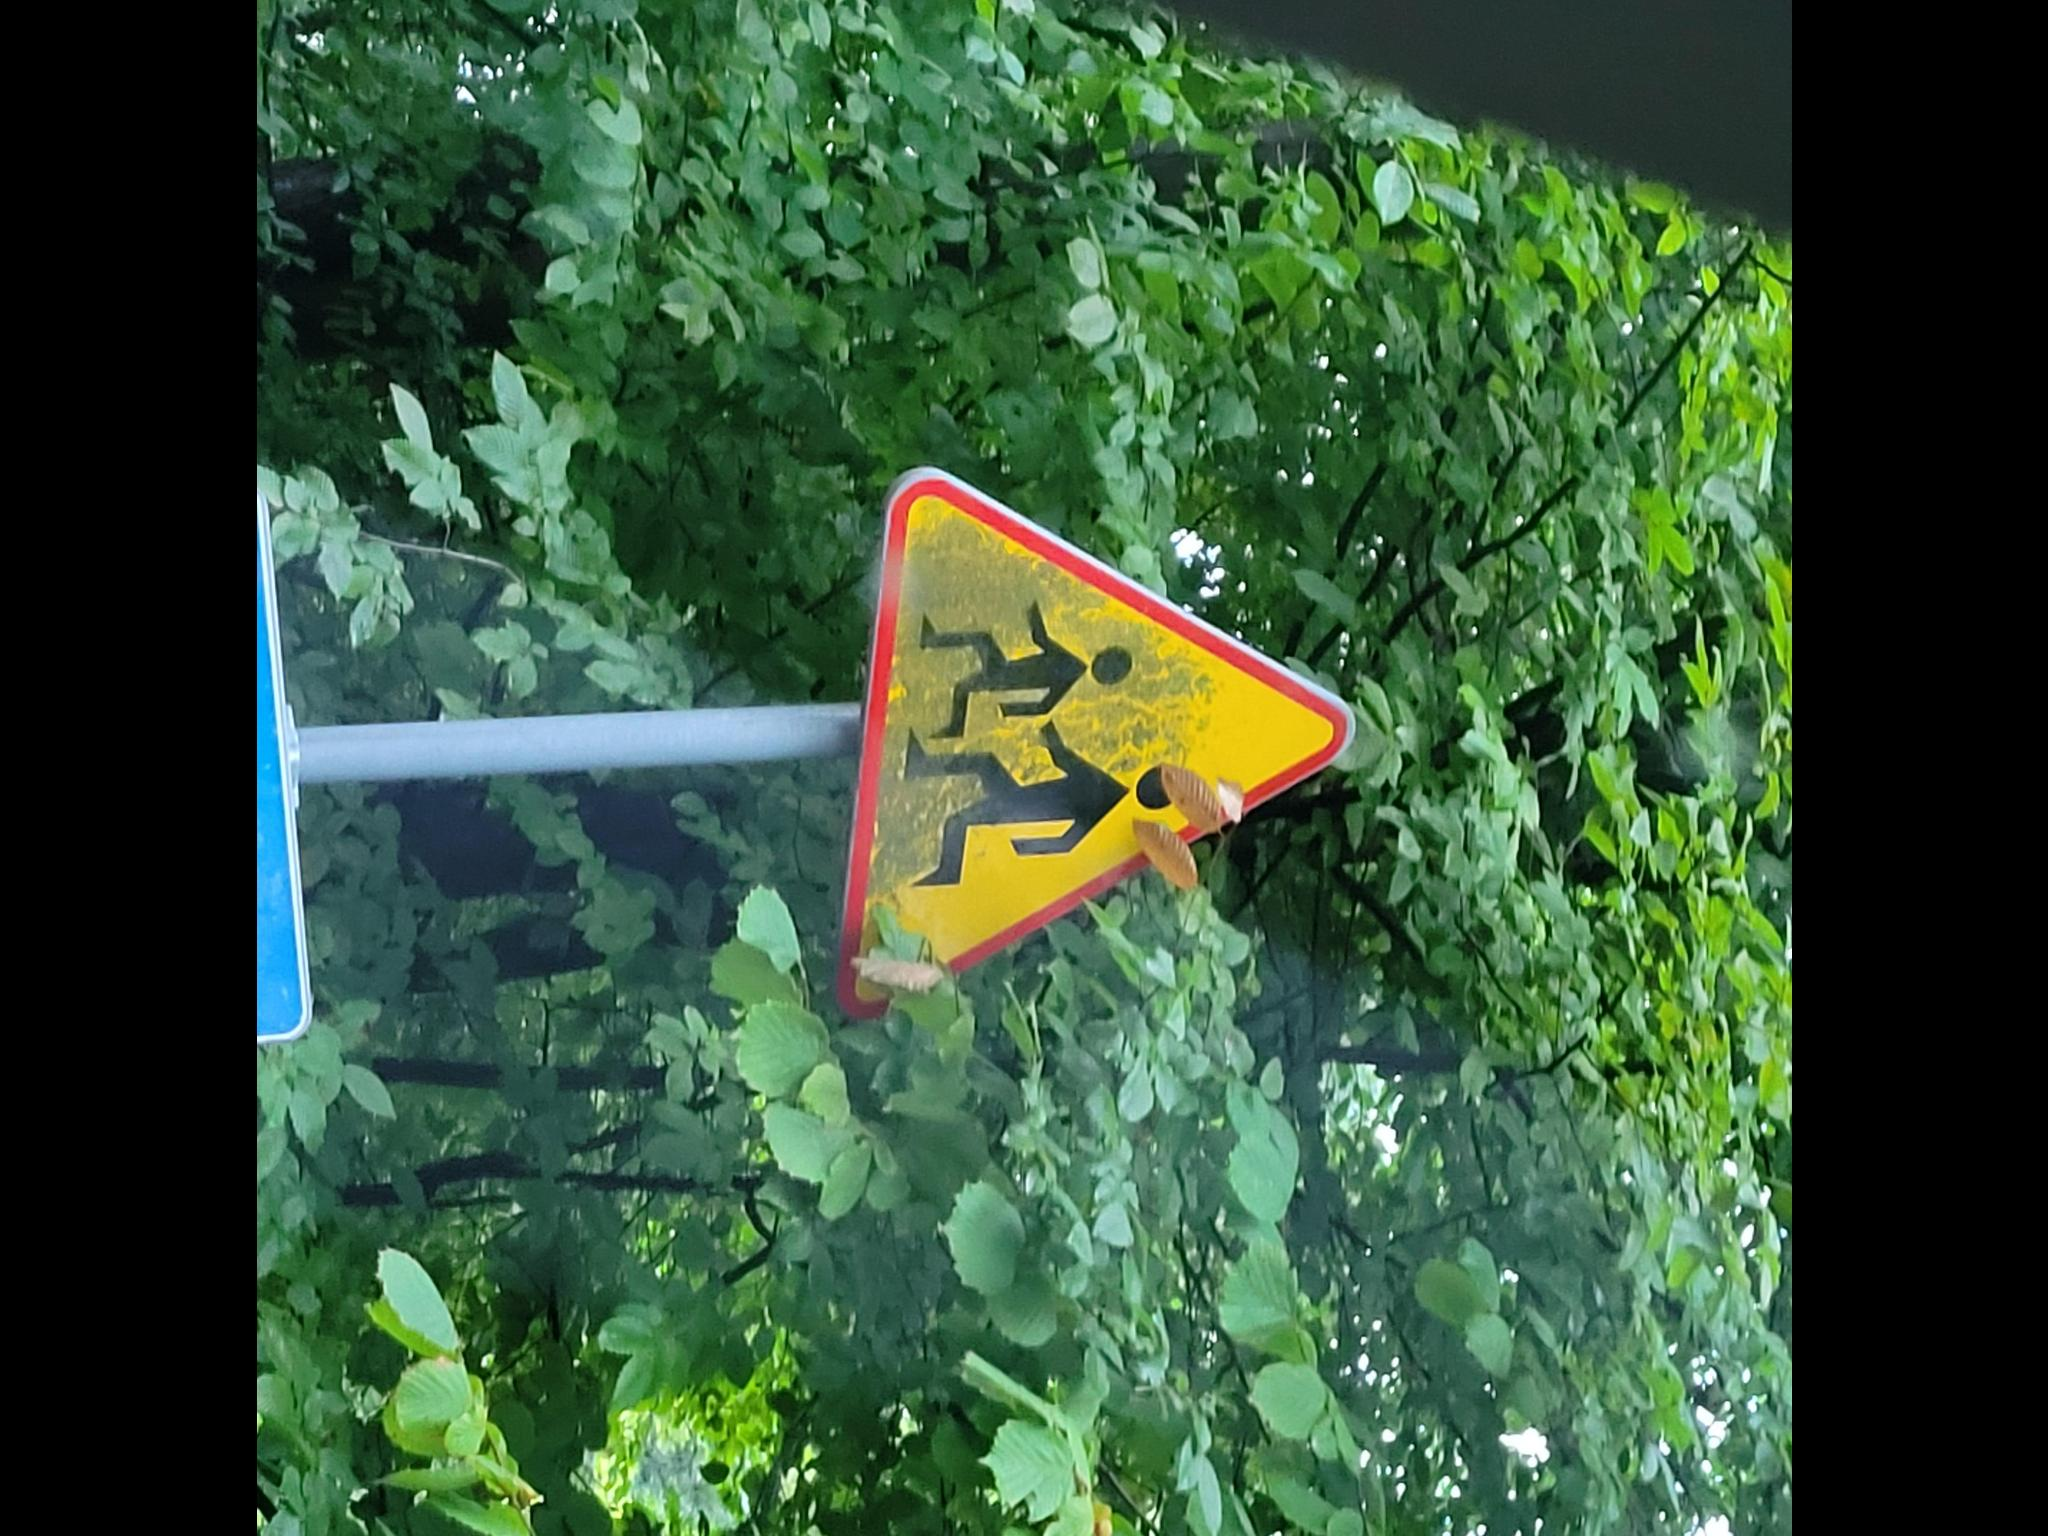warning: (827, 458, 1363, 1021)
